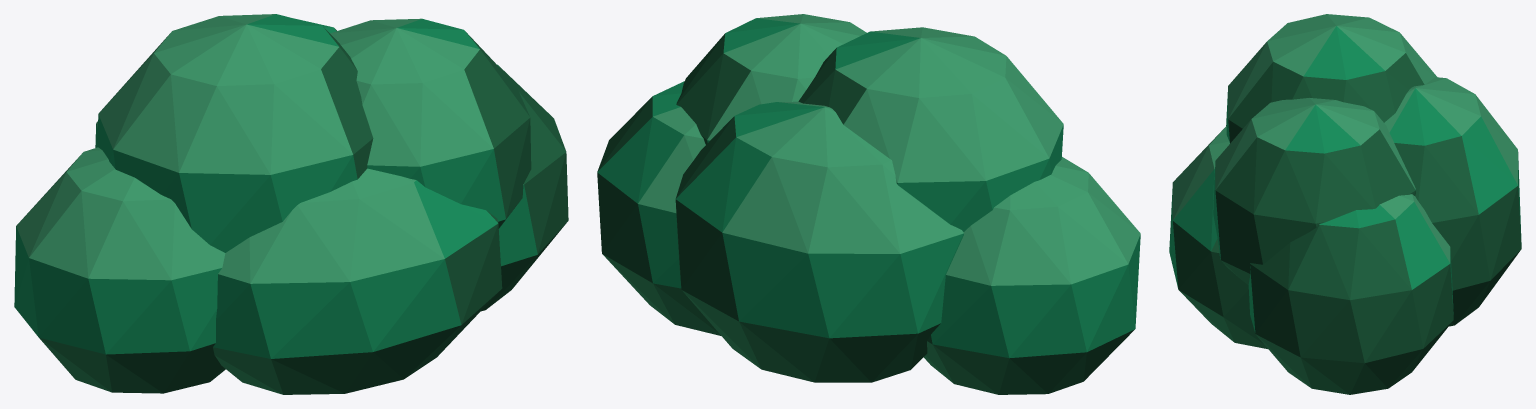
Rendered from Foliage.fbx.
3 views of the same model, side by side, from view 1: azimuth 30°, elevation 25°; view 2: azimuth 150°, elevation 25°; view 3: azimuth 270°, elevation 25° (orthographic). The views are drawn at different scales.
Parts seen in each view (by area): view 1: Foliage; view 2: Foliage; view 3: Foliage.
Boxes of the visible parts, x1,y1,x2,y2 form: Foliage: (14,14,568,394); Foliage: (597,14,1140,394); Foliage: (1169,14,1521,394).
Size of the model in its own units: 5.61 by 3.45 by 3.88.
1 material, 1 textured.
